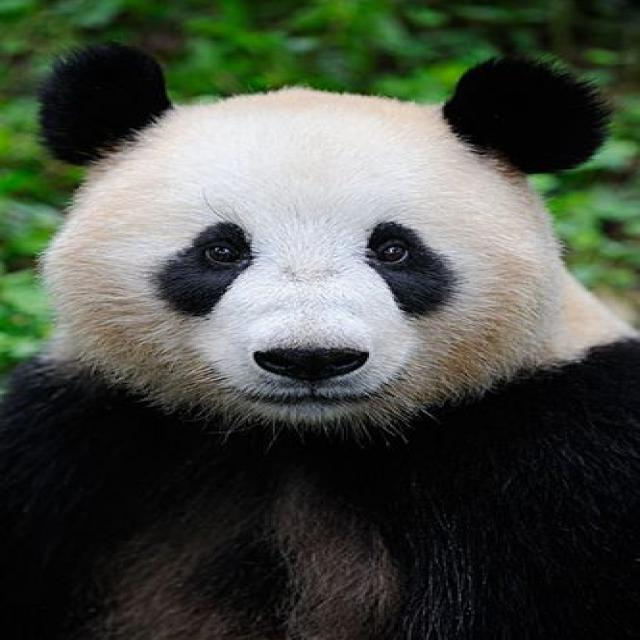panda: (0, 36, 640, 490)
